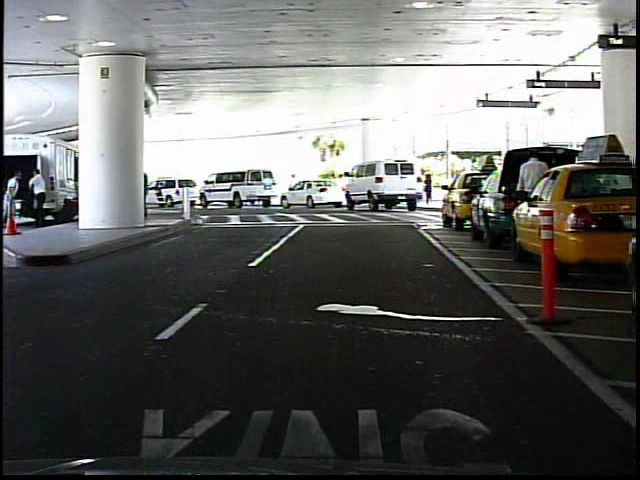person: (513, 147, 551, 252), (423, 174, 438, 208), (285, 171, 300, 204)
